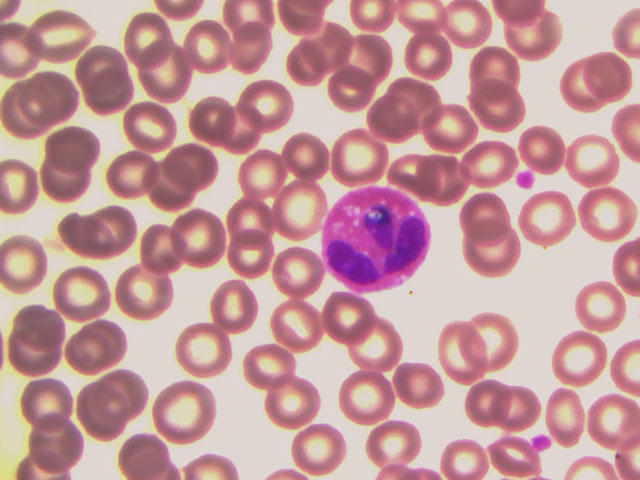Platelets: (513, 169, 539, 198), (530, 430, 553, 453)
RBC: (150, 381, 224, 443), (64, 315, 127, 374), (75, 382, 133, 437), (99, 360, 157, 415), (18, 375, 76, 430), (5, 329, 63, 384), (9, 297, 67, 352), (29, 417, 87, 472), (115, 425, 173, 480), (53, 265, 112, 319), (62, 210, 121, 264), (87, 198, 146, 252), (134, 220, 193, 274), (160, 213, 219, 267), (117, 267, 176, 321), (173, 327, 232, 381), (204, 279, 263, 333), (233, 337, 292, 391), (266, 301, 325, 355), (266, 241, 325, 295), (223, 227, 282, 281), (220, 196, 279, 250), (226, 146, 285, 200), (274, 127, 333, 181), (275, 186, 334, 240), (177, 92, 236, 146), (203, 104, 262, 158), (248, 76, 307, 130), (143, 50, 202, 104), (124, 12, 183, 66), (172, 16, 231, 70), (226, 19, 285, 73), (276, 33, 335, 87), (304, 18, 363, 72), (346, 28, 405, 82), (326, 63, 385, 117), (363, 91, 422, 145), (395, 76, 454, 130), (331, 128, 390, 182), (373, 139, 432, 193), (417, 154, 476, 208), (467, 134, 526, 188), (429, 107, 488, 161), (466, 79, 525, 133), (464, 45, 523, 99), (410, 33, 469, 87), (504, 7, 563, 61), (554, 59, 613, 113), (566, 135, 625, 189), (512, 120, 571, 174), (520, 191, 579, 245), (458, 185, 517, 239), (462, 225, 521, 279), (581, 183, 640, 237), (568, 280, 627, 334), (556, 326, 615, 380), (463, 316, 522, 370), (436, 324, 495, 378), (394, 358, 453, 412), (338, 371, 397, 425), (349, 322, 408, 376), (322, 290, 381, 344), (268, 376, 327, 430), (284, 423, 343, 477), (368, 418, 427, 472), (438, 426, 497, 480), (458, 378, 517, 432), (490, 376, 549, 430), (540, 389, 599, 443), (581, 392, 640, 446), (581, 47, 640, 101), (437, 1, 496, 54), (2, 232, 49, 288), (1, 156, 47, 212), (106, 149, 157, 199), (151, 164, 202, 214), (163, 143, 214, 193), (126, 99, 177, 149), (85, 65, 136, 115), (74, 44, 125, 94), (31, 11, 82, 61), (31, 72, 82, 122), (50, 120, 101, 170), (43, 158, 94, 208), (1, 87, 51, 137)
WBC: (325, 187, 429, 292)
